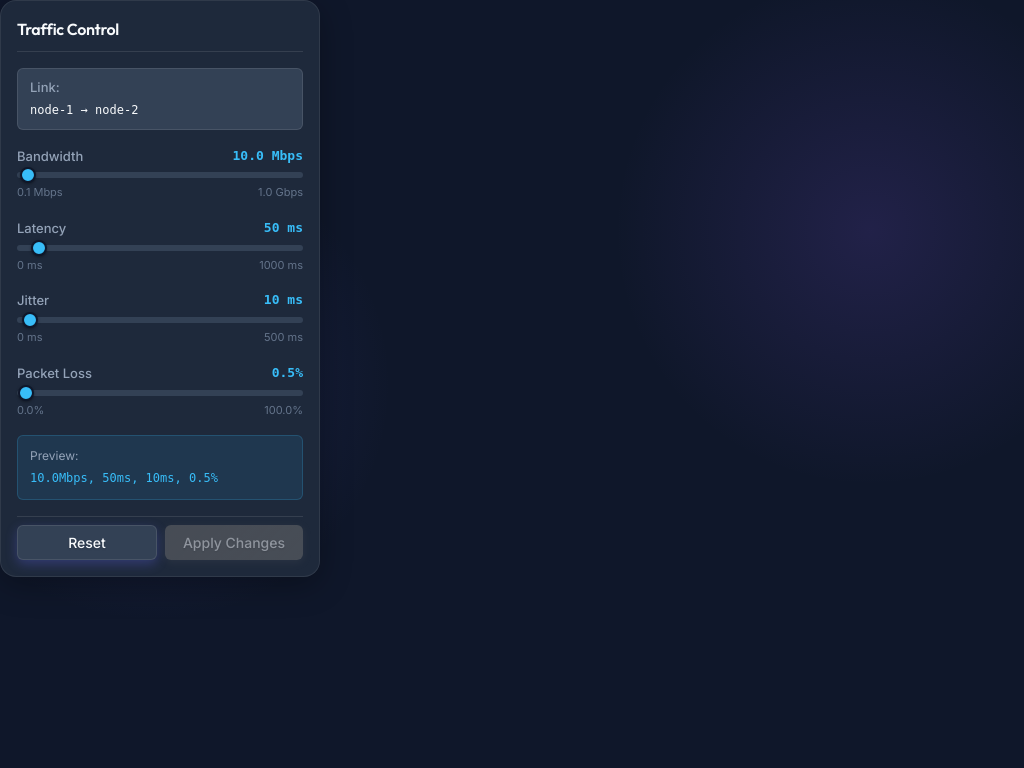
Test: TrafficControlPanel › enables Apply Changes button when values change
// Find and change a slider
Set the slider below "Bandwidth" to "100" at (52, 175), box [17,172,303,178]
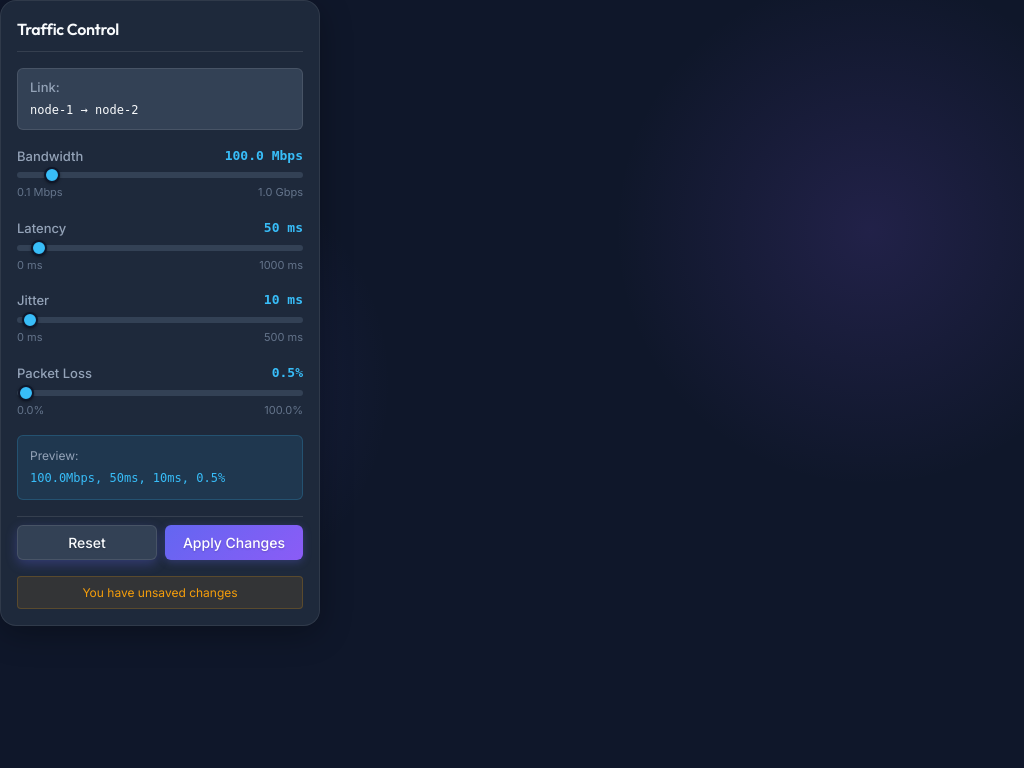
Check: the button "Apply Changes" is enabled, box [165,524,303,560]
